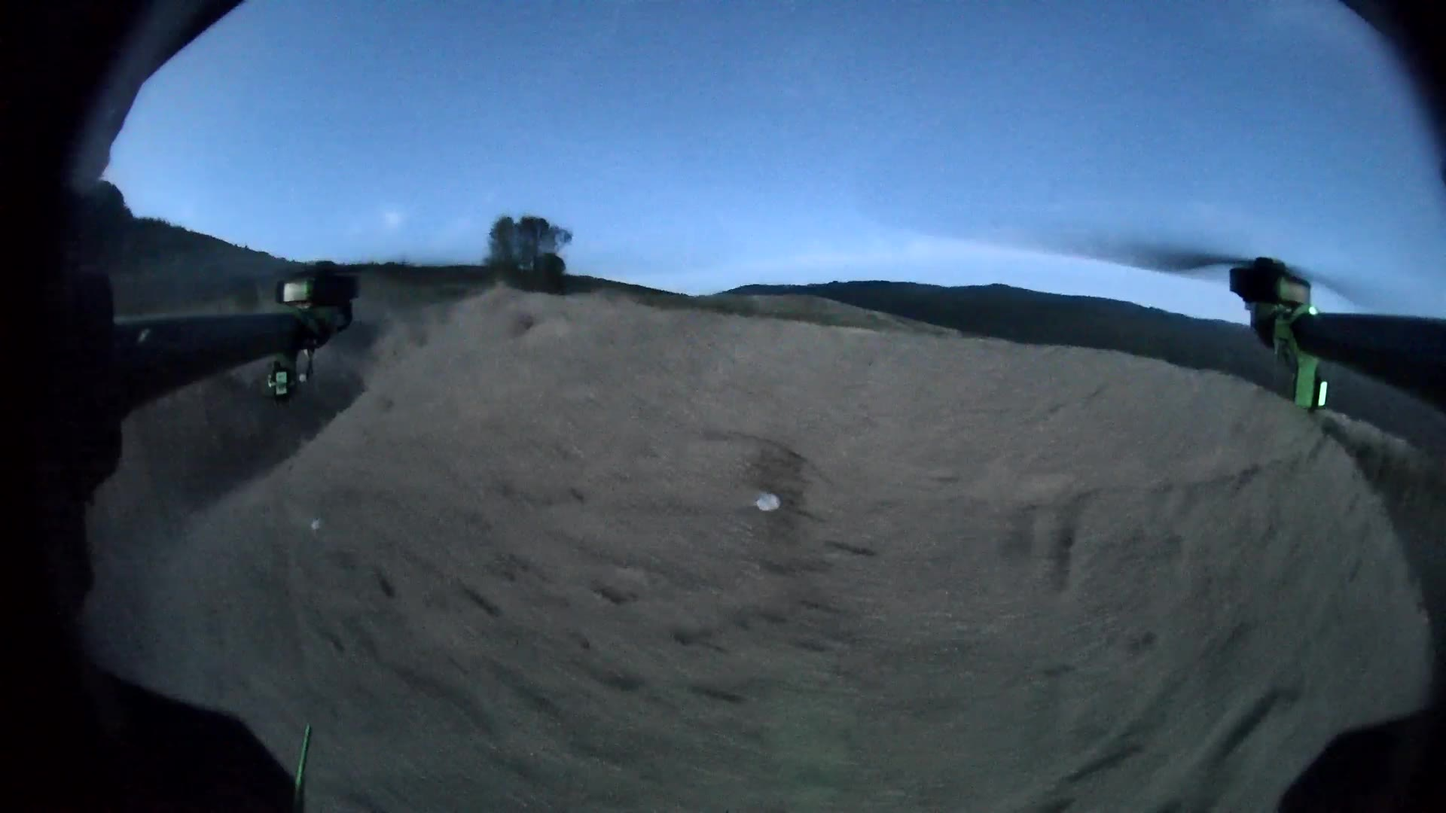Target: (756, 493, 781, 512)
